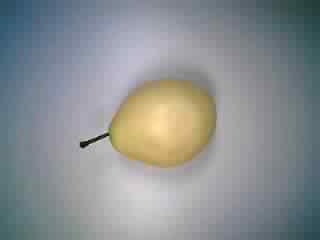pear: (73, 69, 226, 169)
